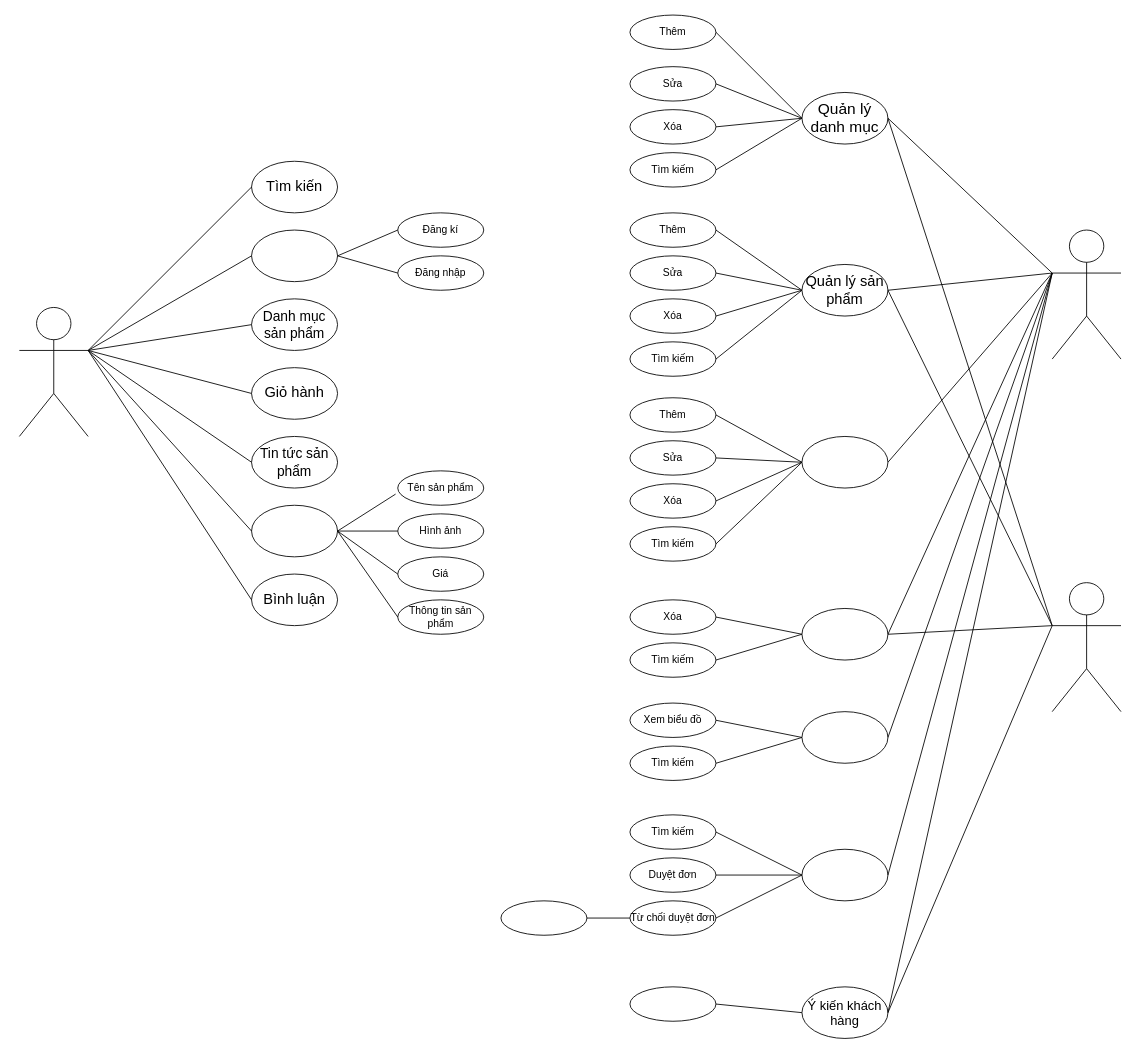
Image size: 1136x1054. Some labels were removed from this diagram. The shapes that lost their labels are listed below. From the top down, each one's centre as x and y in pixels, then its label:
At point (294, 255): "Tài khoản".
At point (1086, 294): "Quản trị".
At point (53, 371): "Người dùng".
At point (844, 462): "Quản lý nhân viên".
At point (294, 530): "Chi tiết sản phẩm".
At point (844, 634): "Quản lý bình luận".
At point (1086, 647): "Nhân viên".
At point (844, 737): "Thống kê".
At point (844, 874): "Hóa đơn".
At point (543, 917): "Lý do".
At point (672, 1003): "Phản hồi khách hàng".
